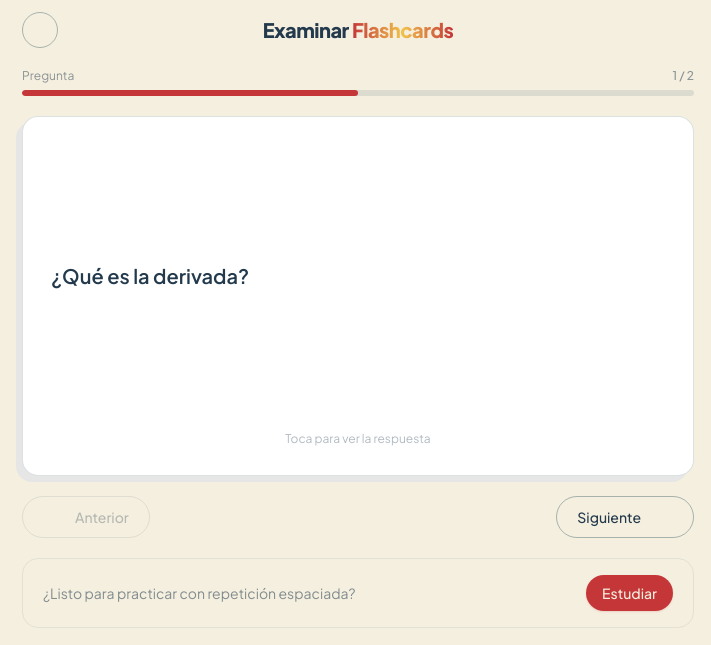
Test: FlashcardsExamineUnitPage › navigates to next card when Siguiente is clicked
The width and height of the screenshot is (711, 645).
Expected: the text "¿Qué es la derivada?" is shown, [51,263,249,288]
Step 1. Click the button "Siguiente" → (625, 517), box [556,496,694,538]
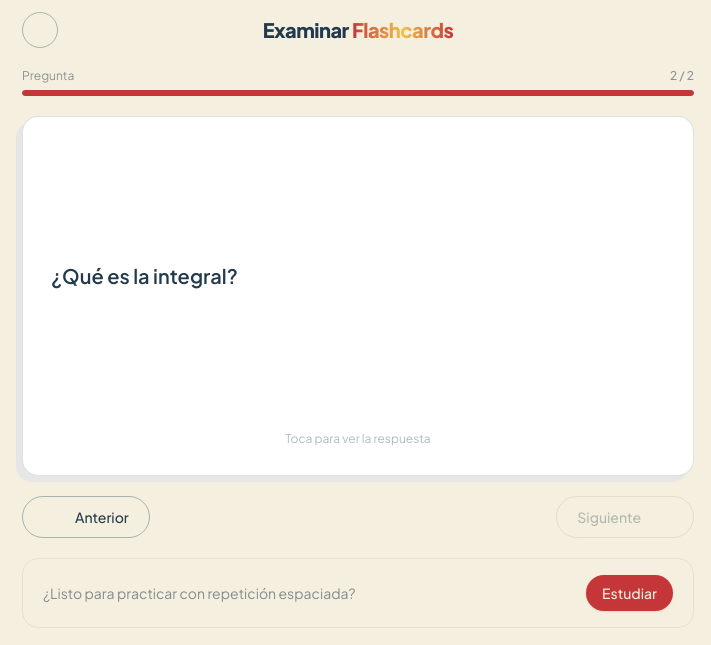
Result: the text "¿Qué es la integral?" is shown at [51,263,238,288]
